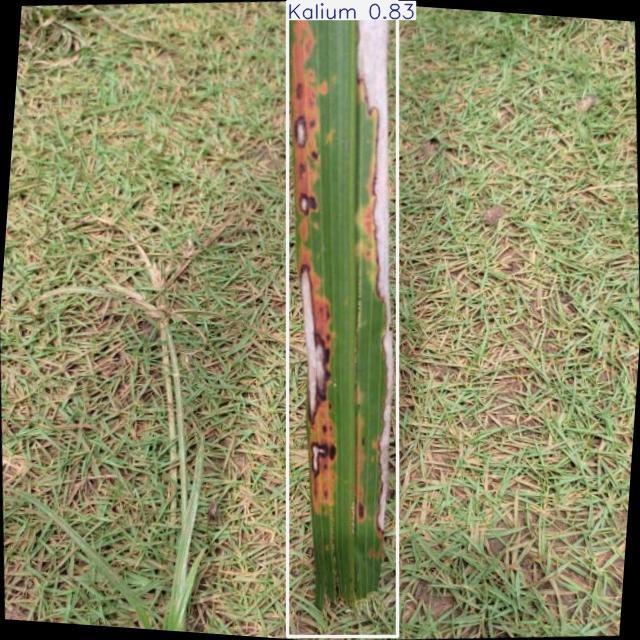Kalium: (288, 1, 398, 637)
